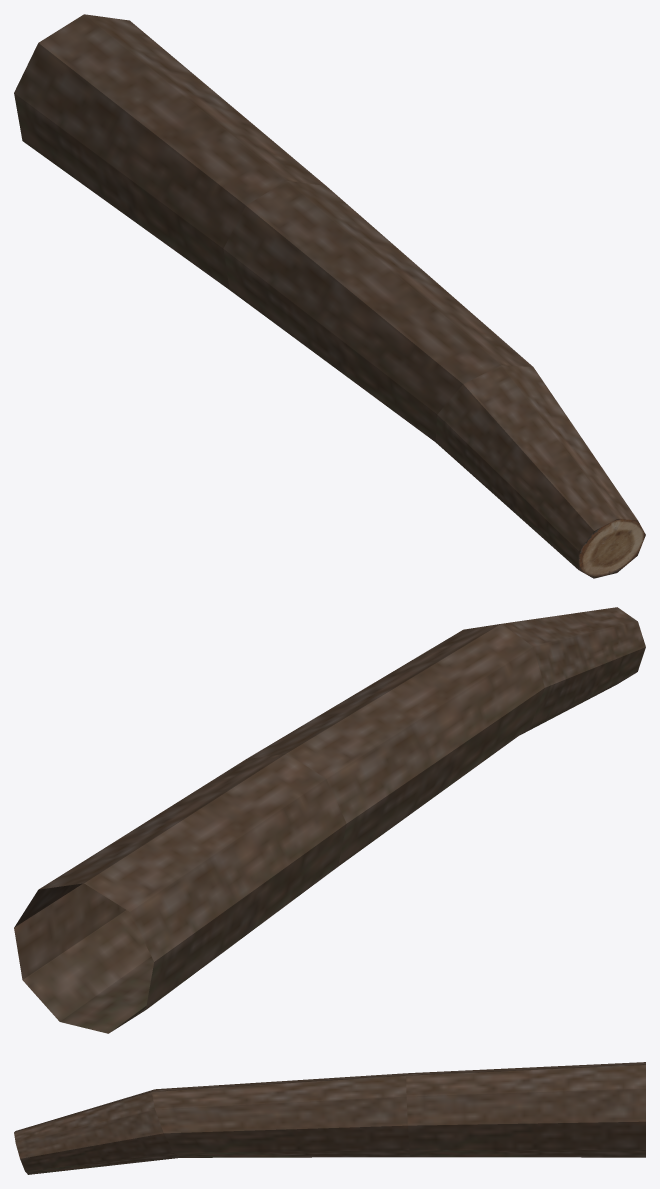
Rendered from sdwsk-timberman-branch2.fbx.
3 renders of one model, top to bottom at view 1: azimuth 30°, elevation 25°; view 2: azimuth 150°, elevation 25°; view 3: azimuth 270°, elevation 25°, orthographic. The views are drawn at different scales.
Visible parts, largest first — view 1: sdwsk-timberman-branch2; view 2: sdwsk-timberman-branch2; view 3: sdwsk-timberman-branch2.
Boxes of the visible parts, x1,y1,x2,y2 form: sdwsk-timberman-branch2: (14,14,645,578); sdwsk-timberman-branch2: (14,607,645,1033); sdwsk-timberman-branch2: (14,1062,645,1174).
Size of the model in its own units: 31.53 by 38.66 by 208.
Materials: 1 (1 with a texture image).
